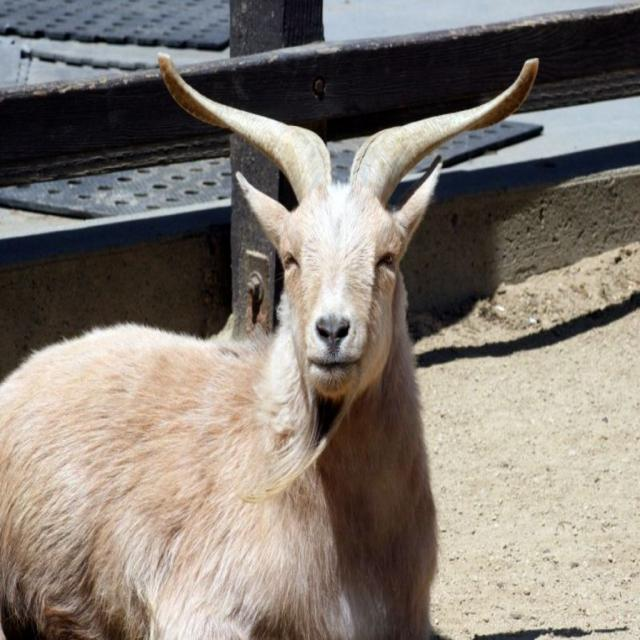Goat: (2, 58, 532, 638)
